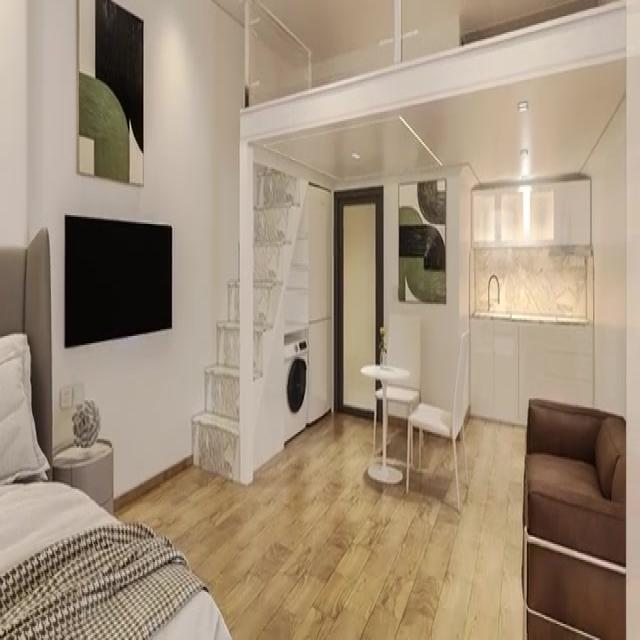door: (334, 185, 383, 416)
obstacle: (520, 395, 625, 638), (409, 330, 468, 509), (360, 362, 410, 483)
